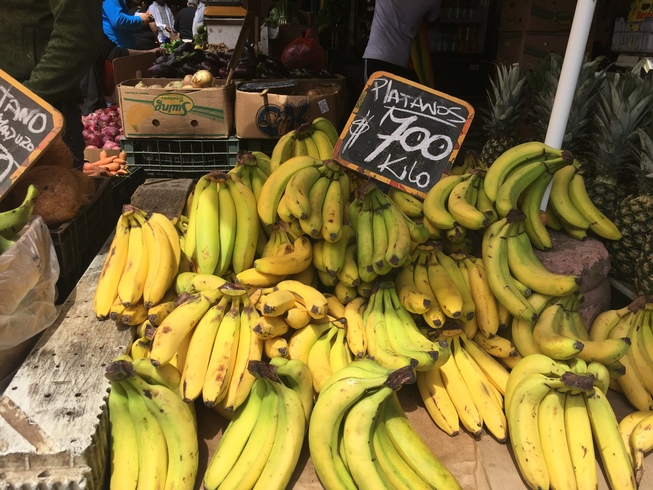precio: (327, 69, 478, 208)
